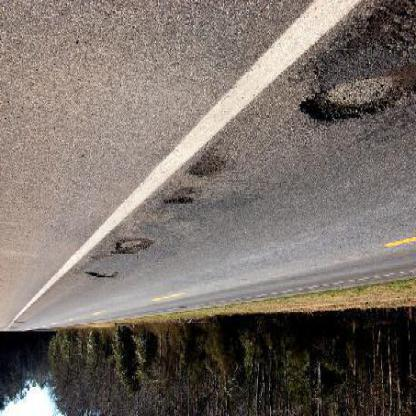pothole: (302, 74, 404, 126), (190, 152, 230, 181), (114, 237, 156, 258), (164, 190, 199, 209), (89, 270, 122, 283)
